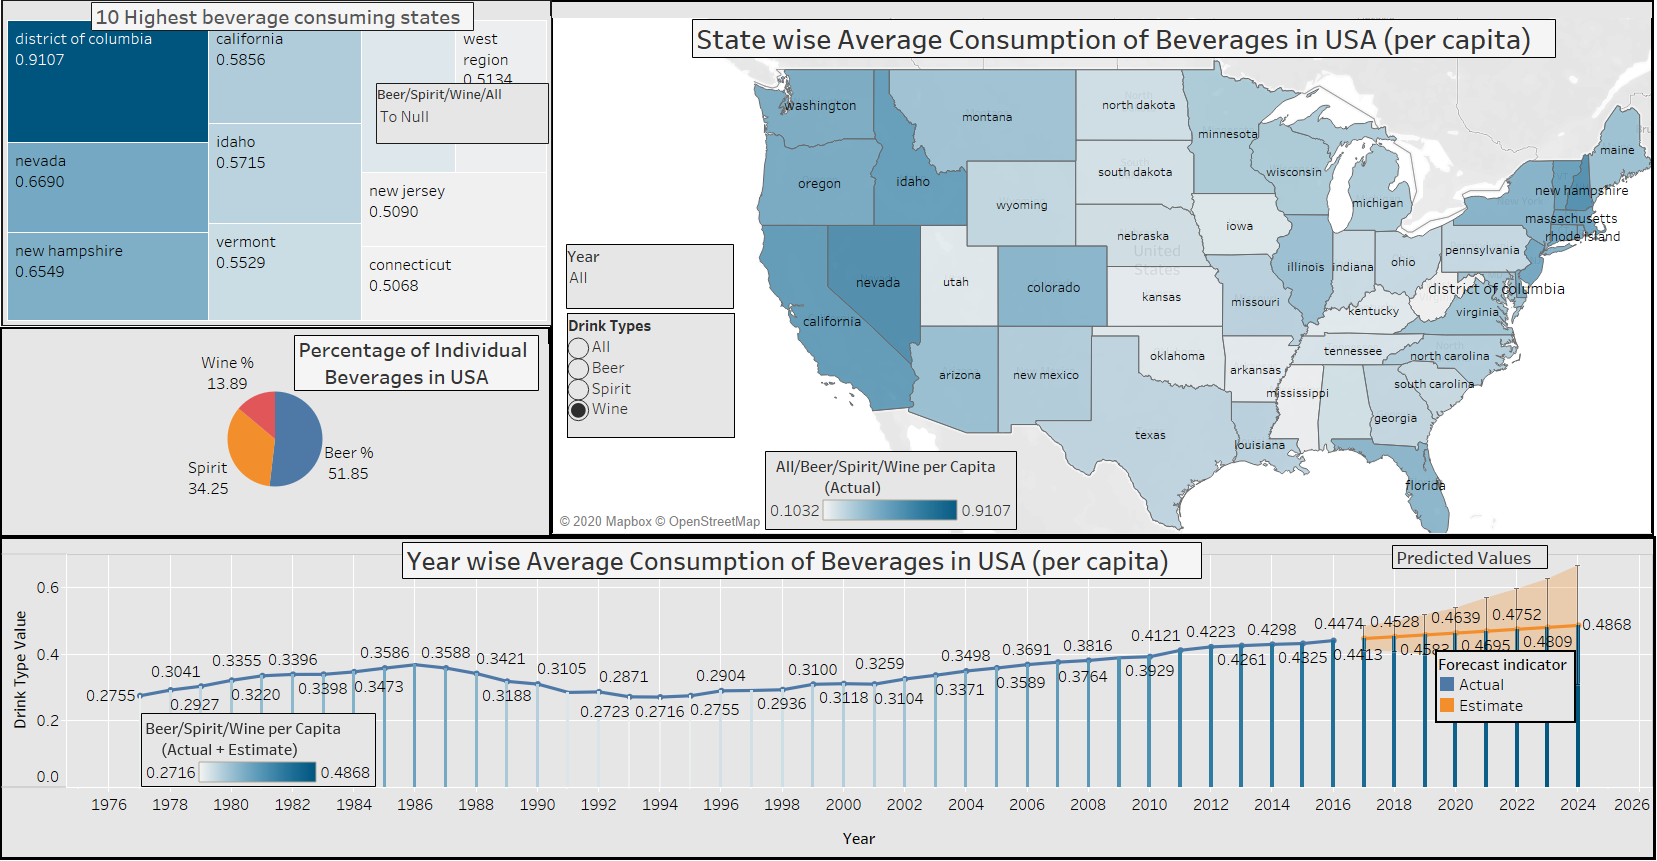

What the dashboard file says about the page in this screenshot:
{"tool":"tableau","page":{"name":"Dashboard1- Explanatory Analysis","canvas":[1000,1000],"units":"permille","ordinal":0},"visuals":[{"type":"worksheet","title":"World Map:State wise Average Consumption of Beverages in USA (per capita)","mark":"Multipolygon","box":[331.9,0,666.3,622.5]},{"type":"text","box":[54.8,2.3,231.2,33.7]},{"type":"text","box":[417.8,22.1,521.3,45.3]},{"type":"filter","title":"Tree Map: 10 highest beverage consuming states","param":"[federated.1qfq4ki07oqajl10wath003qq1z7].[usr:Calculation_1718123296736960512:qk","box":[226.9,96.4,104.4,70.9]},{"type":"filter","title":"World Map:State wise Average Consumption of Beverages in USA (per capita)","param":"[federated.1qfq4ki07oqajl10wath003qq1z7].[yr:Year:ok]","box":[341.7,283.4,101.1,75.5]},{"type":"parameter","param":"[Parameters].[Parameter 1]","box":[342.3,363.5,101.1,145.2]},{"type":"worksheet","title":"Pie Chart: Percentage of Individual Beverages in USA","mark":"Pie","box":[0,379.8,331.9,242.7]},{"type":"text","box":[177.2,389.1,148,65]},{"type":"legend","title":"World Map:State wise Average Consumption of Beverages in USA (per capita)","param":"[federated.1qfq4ki07oqajl10wath003qq1z7].[usr:Calculation_1718123296736960512:qk","box":[461.7,523.8,152.1,91.8]},{"type":"text","box":[242.6,629.5,482.8,43]},{"type":"text","box":[840.3,633,94.1,27.9]},{"type":"legend","title":"Bar Graph: Year wise Average Consumption of Beverages in USA (per capita)","param":"[federated.1qfq4ki07oqajl10wath003qq1z7].[none:Forecast Indicator:nk]","box":[866,754.9,85.3,84.8]},{"type":"legend","title":"Bar Graph: Year wise Average Consumption of Beverages in USA (per capita)","param":"[federated.1qfq4ki07oqajl10wath003qq1z7].[fVal:usr:Calculation_17181232967369605","box":[85.3,828.1,141.9,86]}]}

Visuals, with their boxes on the dashboard's canvas, which has no fixed pixel size, in thousandths of its width and height (x1, y1, x2, y2). These are canvas units, not pixel positions in the 1657x861 screenshot, which may show the page scaled, cropped or inside an application window:
"World Map:State wise Average Consumption of Beverages in USA (per capita)" worksheet (Multipolygon marks): x1=332, y1=0, x2=998, y2=622
text: x1=55, y1=2, x2=286, y2=36
text: x1=418, y1=22, x2=939, y2=67
"Tree Map: 10 highest beverage consuming states" filter: x1=227, y1=96, x2=331, y2=167
"World Map:State wise Average Consumption of Beverages in USA (per capita)" filter: x1=342, y1=283, x2=443, y2=359
parameter: x1=342, y1=364, x2=443, y2=509
"Pie Chart: Percentage of Individual Beverages in USA" worksheet (Pie marks): x1=0, y1=380, x2=332, y2=622
text: x1=177, y1=389, x2=325, y2=454
"World Map:State wise Average Consumption of Beverages in USA (per capita)" legend: x1=462, y1=524, x2=614, y2=616
text: x1=243, y1=630, x2=725, y2=672
text: x1=840, y1=633, x2=934, y2=661
"Bar Graph: Year wise Average Consumption of Beverages in USA (per capita)" legend: x1=866, y1=755, x2=951, y2=840
"Bar Graph: Year wise Average Consumption of Beverages in USA (per capita)" legend: x1=85, y1=828, x2=227, y2=914
